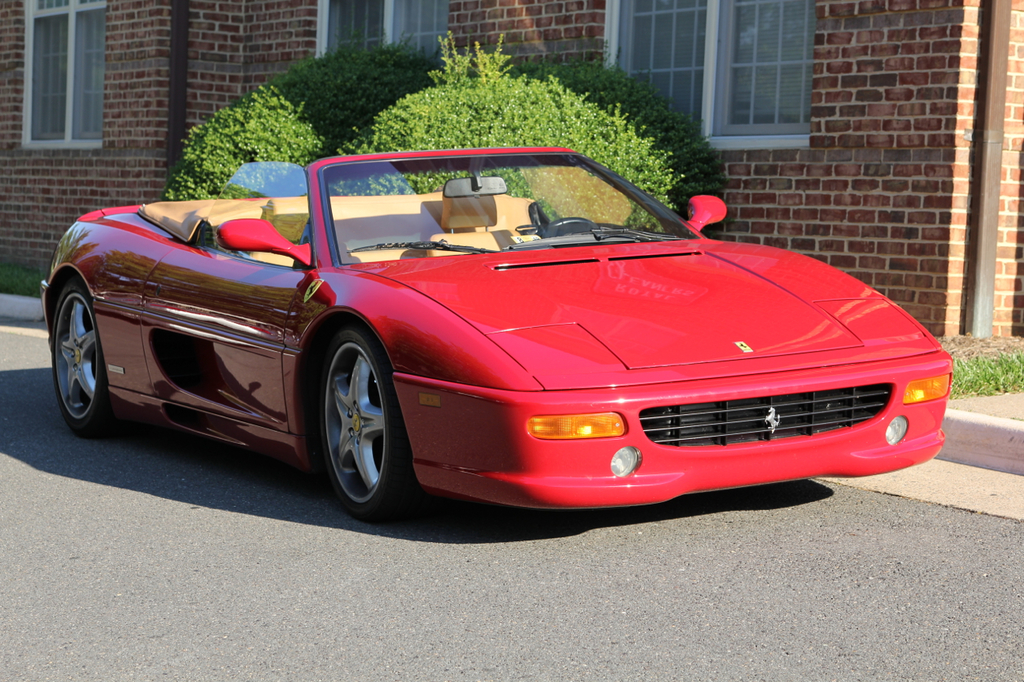Car: (40, 147, 953, 520)
